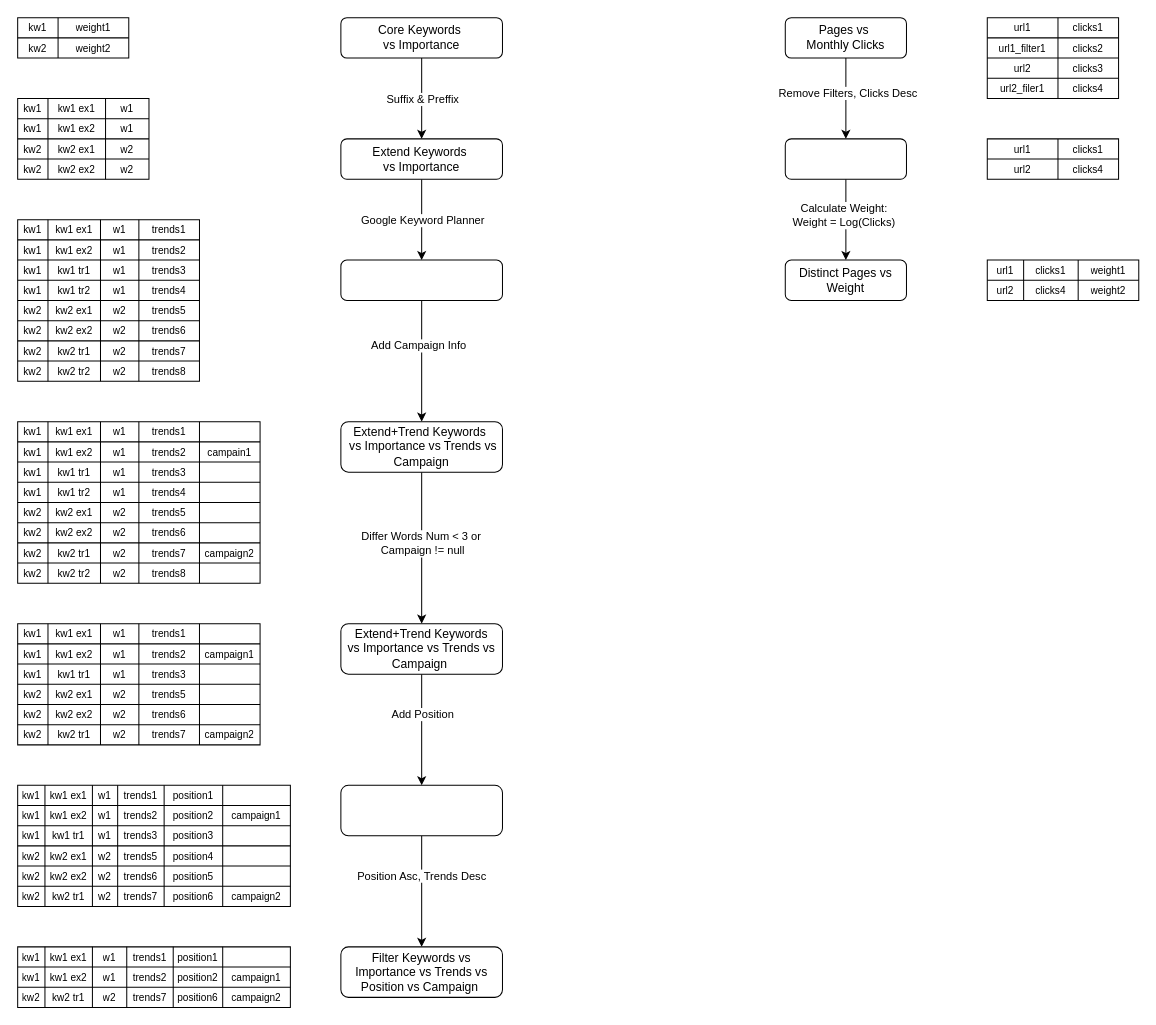
The diagram is 1156 pixels wide and 1025 high, and some of its shapes have lost their labels. Here are the shapes that lost their labels. From the top down, the centre of each, then its label:
point (845, 158): Distinct Pages vs Top Monthly Clicks
point (421, 279): Extend+Trend Keywords vs Importance vs Trends
point (421, 810): Extend+Trend Keywords vs Importance vs Trends vs Position vs Campaign
